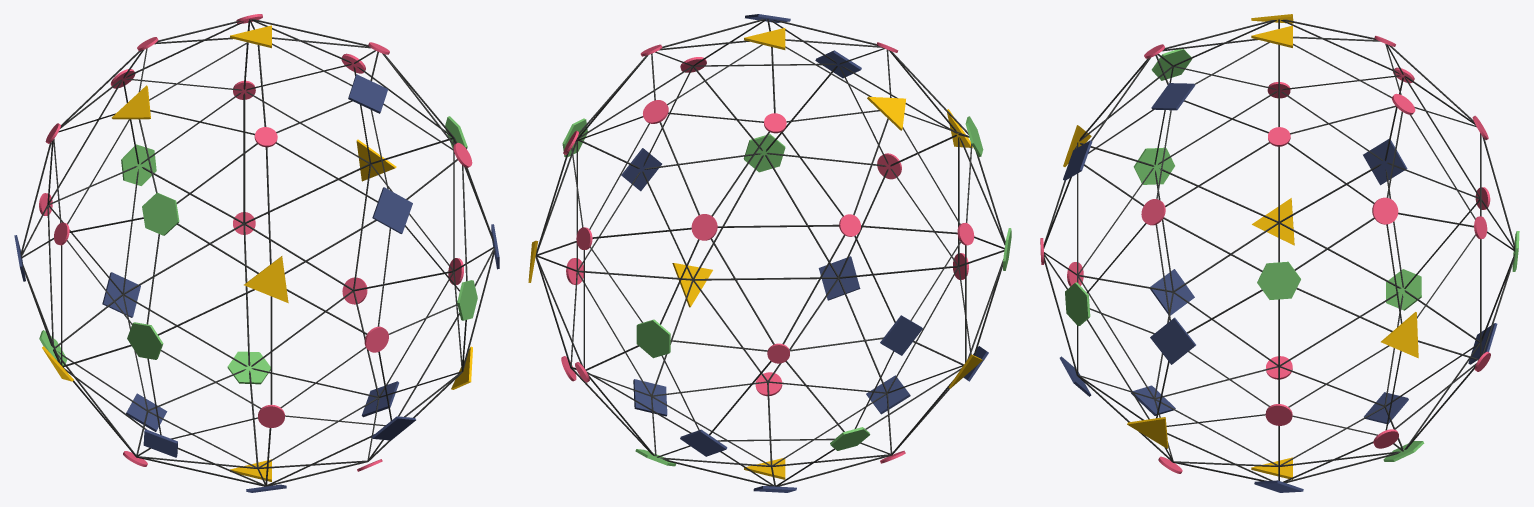
The model's file is wtf-17-darker.glb.
3 renders of one model, left to right at view 1: azimuth 30°, elevation 25°; view 2: azimuth 150°, elevation 25°; view 3: azimuth 270°, elevation 25°, orthographic.
Visible parts, largest first — view 1: wireisosphereV4.001; view 2: wireisosphereV4.001; view 3: wireisosphereV4.001.
Part boxes in pixels (<box>): wireisosphereV4.001: <box>14,14,499,492</box>; wireisosphereV4.001: <box>528,14,1011,492</box>; wireisosphereV4.001: <box>1040,14,1519,492</box>.
Bounding box in the file's own units: 3.43 × 3.46 × 3.46.
